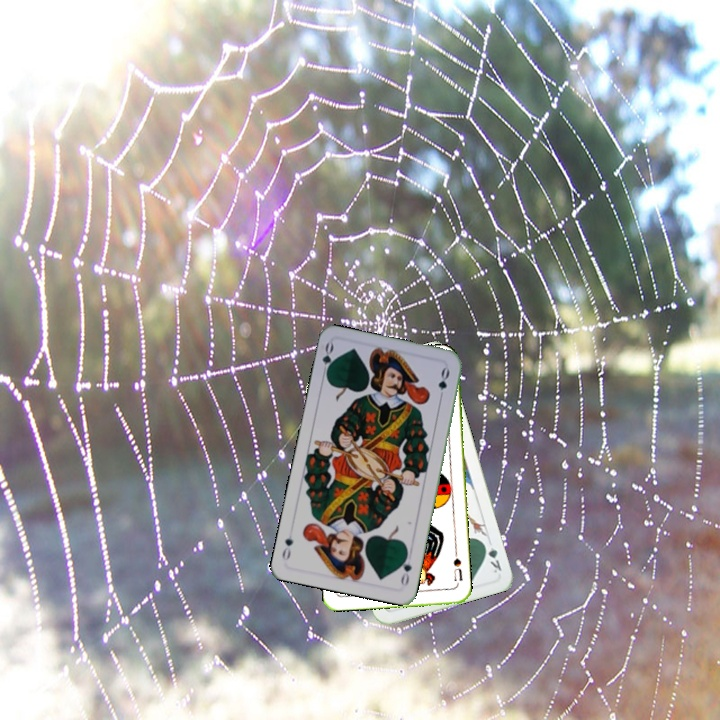GK: (480, 538, 504, 576)
GO: (318, 339, 337, 380), (397, 548, 414, 589)
SU: (449, 554, 465, 588)
